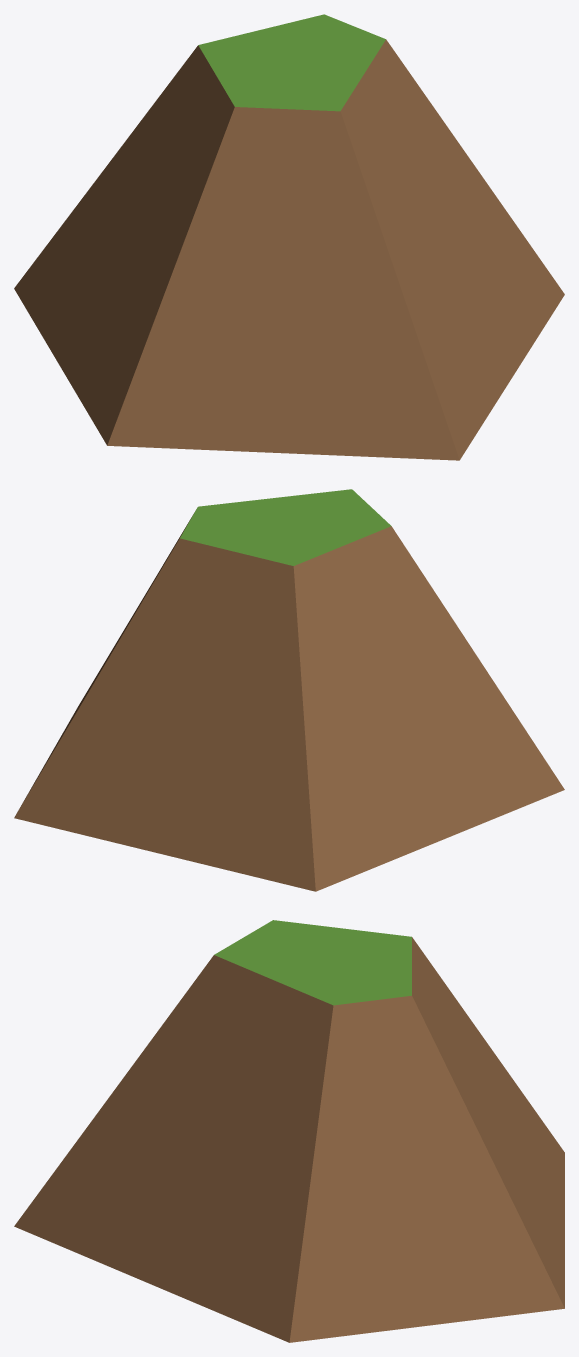
File: rock_smallA.glb
3 views of the same model, one above another, from view 1: azimuth 30°, elevation 25°; view 2: azimuth 150°, elevation 25°; view 3: azimuth 270°, elevation 25° (orthographic). The views are drawn at different scales.
Visible parts, largest first — view 1: rock_smallA; view 2: rock_smallA; view 3: rock_smallA.
Part boxes in pixels (x1,y1,x2,y2): rock_smallA: [14, 14, 564, 460]; rock_smallA: [14, 489, 564, 891]; rock_smallA: [14, 920, 564, 1342].
Size of the model in its own units: 0.3608 by 0.1912 by 0.3608.
